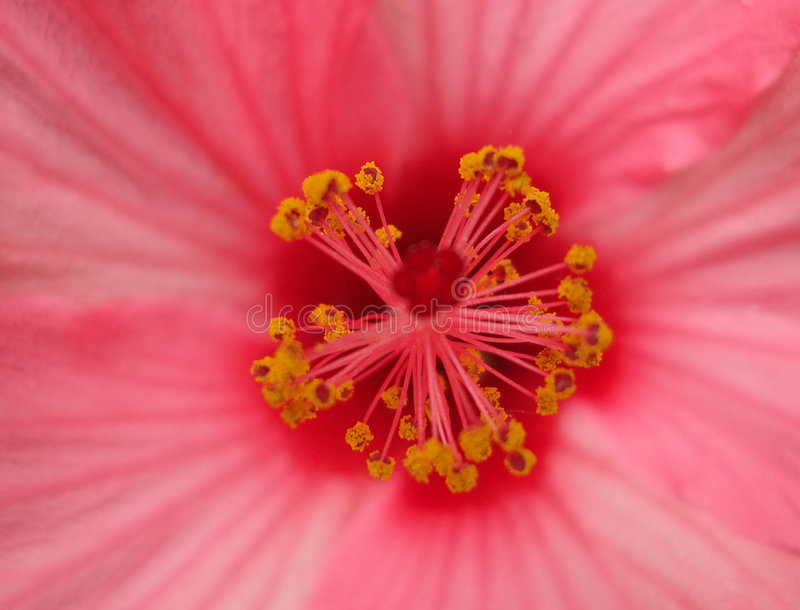Hibiscus: (10, 12, 773, 610)
